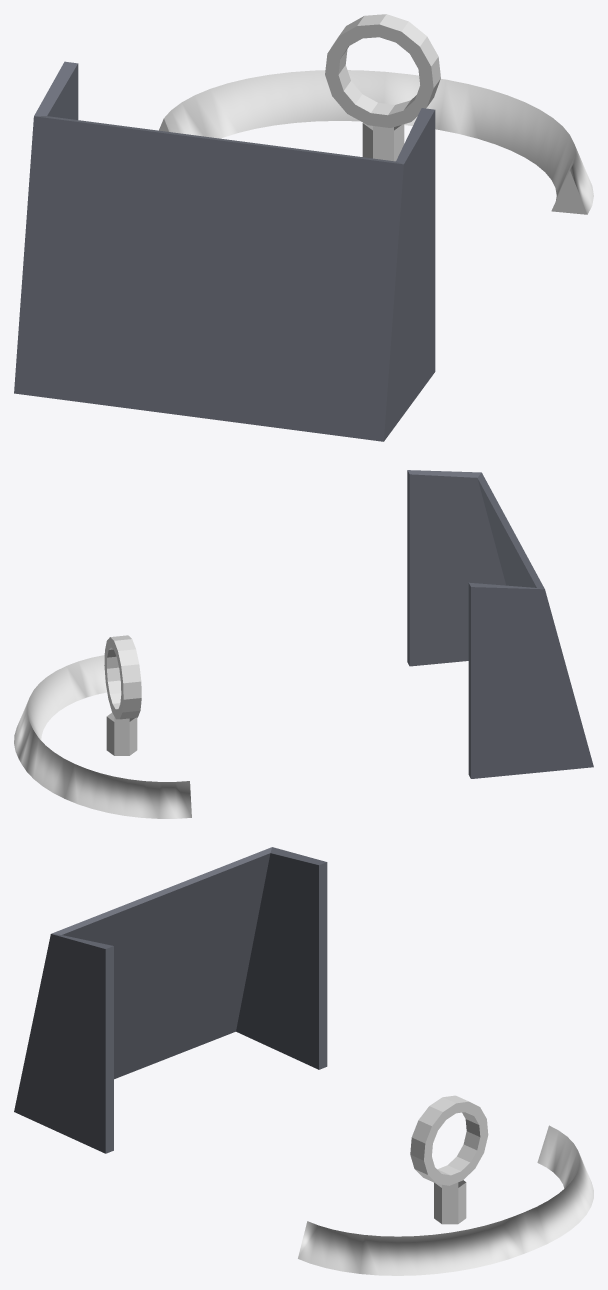
The model's file is SM_Goalkeeper_Collider.fbx.
3 views of the same model, one above another, from view 1: azimuth 30°, elevation 25°; view 2: azimuth 150°, elevation 25°; view 3: azimuth 270°, elevation 25° (orthographic). The views are drawn at different scales.
Parts seen in each view (by area): view 1: porteria_collider, logo-pad_collider, shooter01.002_collider, shooter.001_collider; view 2: porteria_collider, logo-pad_collider, shooter01.002_collider, shooter.001_collider; view 3: porteria_collider, logo-pad_collider, shooter01.002_collider, shooter.001_collider.
Boxes of the visible parts, x1,y1,x2,y2 form: porteria_collider: (14,61,435,441); logo-pad_collider: (159,70,593,214); shooter01.002_collider: (325,14,440,127); shooter.001_collider: (362,123,404,161); porteria_collider: (407,470,593,778); logo-pad_collider: (14,655,191,818); shooter01.002_collider: (104,635,141,719); shooter.001_collider: (106,713,137,755); porteria_collider: (14,847,327,1153); logo-pad_collider: (298,1125,593,1275); shooter01.002_collider: (410,1095,488,1185); shooter.001_collider: (434,1180,466,1224).
Bounding box in the file's own units: 694 × 266 × 678.
